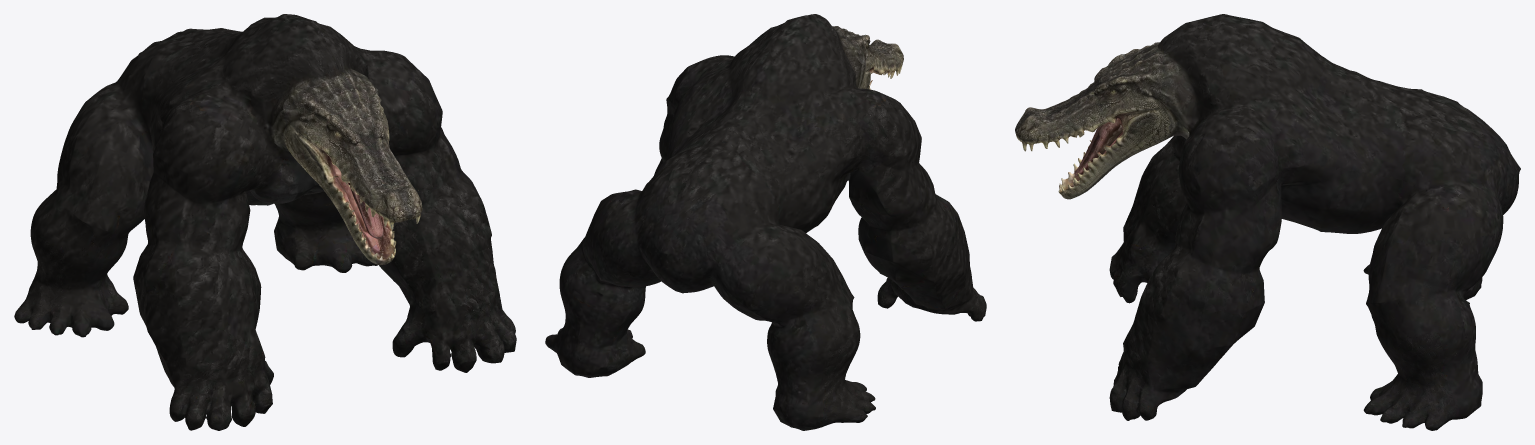
File: crocogorilla.glb
The picture shows the model from 3 angles, left to right: view 1: azimuth 30°, elevation 25°; view 2: azimuth 150°, elevation 25°; view 3: azimuth 270°, elevation 25°; orthographic projection. The views are drawn at different scales.
Bounding box in the file's own units: 1.54 × 1.4 × 1.9.
Materials: 1 (1 with a texture image).
